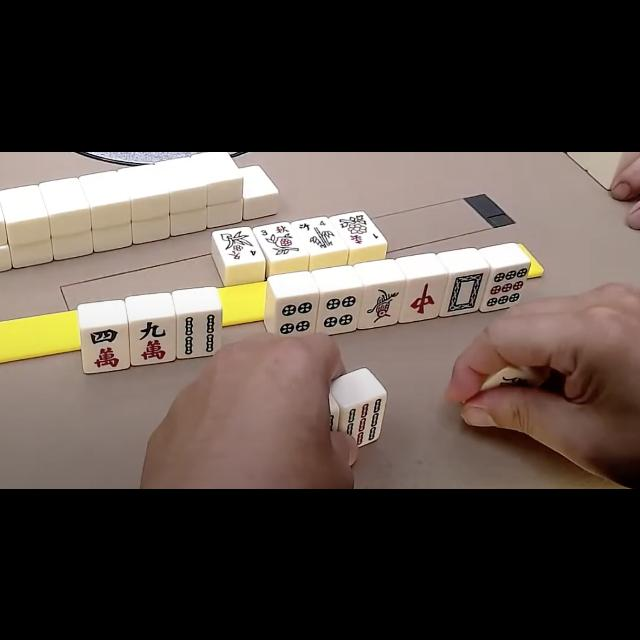b1: (362, 282, 402, 324)
b4: (178, 311, 220, 355)
b9: (344, 398, 384, 444)
c4: (82, 324, 128, 370)
c9: (131, 318, 175, 362)
d4: (318, 290, 359, 334), (274, 294, 316, 336)
d9: (486, 264, 528, 308)
dr: (403, 276, 443, 318)
dw: (444, 271, 486, 313)
f4: (297, 216, 331, 234)
s1: (345, 229, 383, 247)
s3: (257, 222, 295, 238)
s4: (224, 246, 260, 262)
